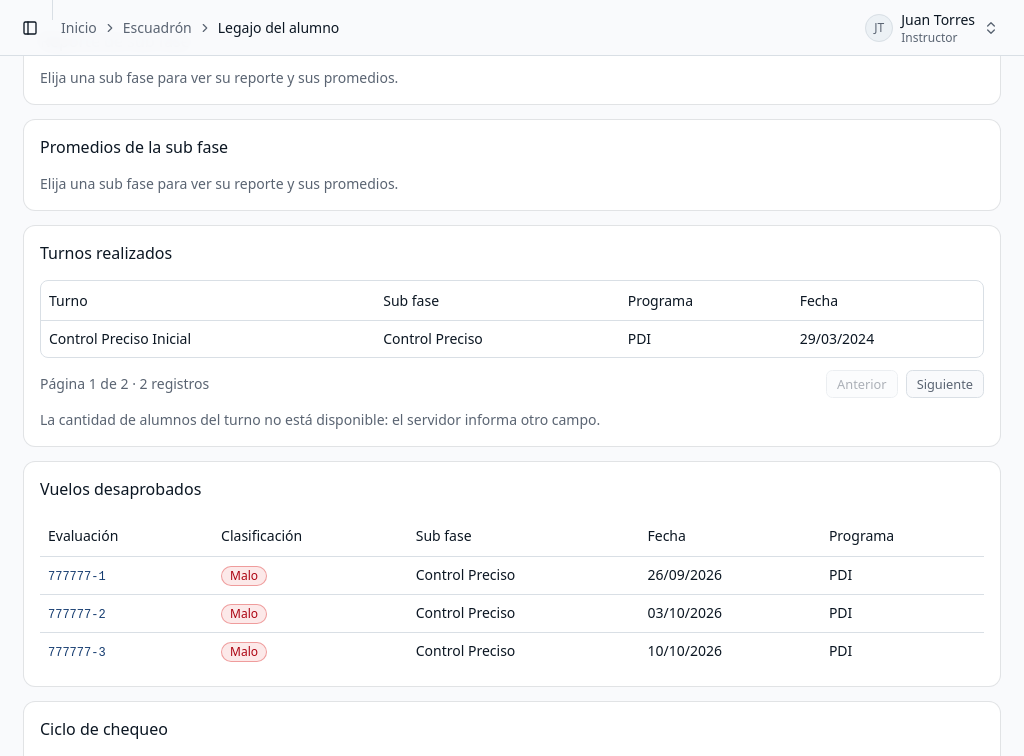
Test: Legajo: turnos realizados › CA-LEG-08 el panel pagina y declara cuántos turnos hay en total
The width and height of the screenshot is (1024, 756).
(page scrolled)
expect the text "Página 1 de 2 · 2 registros" is shown: met, box x1=40 y1=374 x2=209 y2=394
expect the text "Control Preciso Inicial" is shown: met, box x1=41 y1=321 x2=375 y2=357
Click the button "Siguiente": (945,384) x1=906 y1=370 x2=984 y2=398
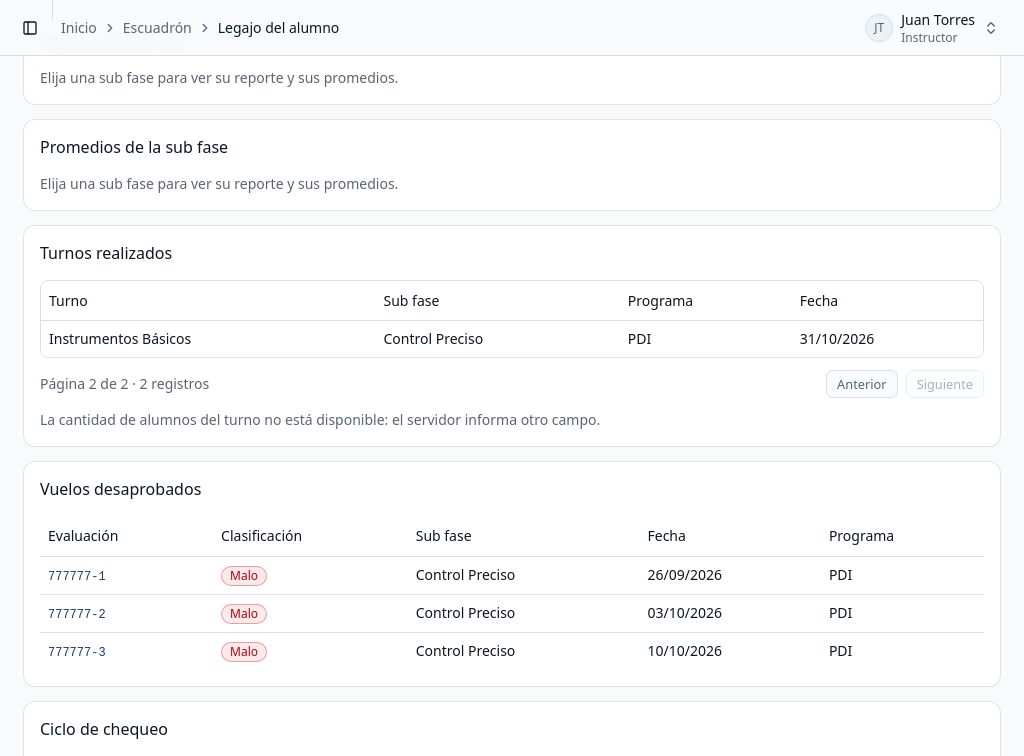
expect the text "Página 2 de 2 · 2 registros" is shown: met, box x1=40 y1=374 x2=209 y2=394
expect the text "Instrumentos Básicos" is shown: met, box x1=41 y1=321 x2=376 y2=357
